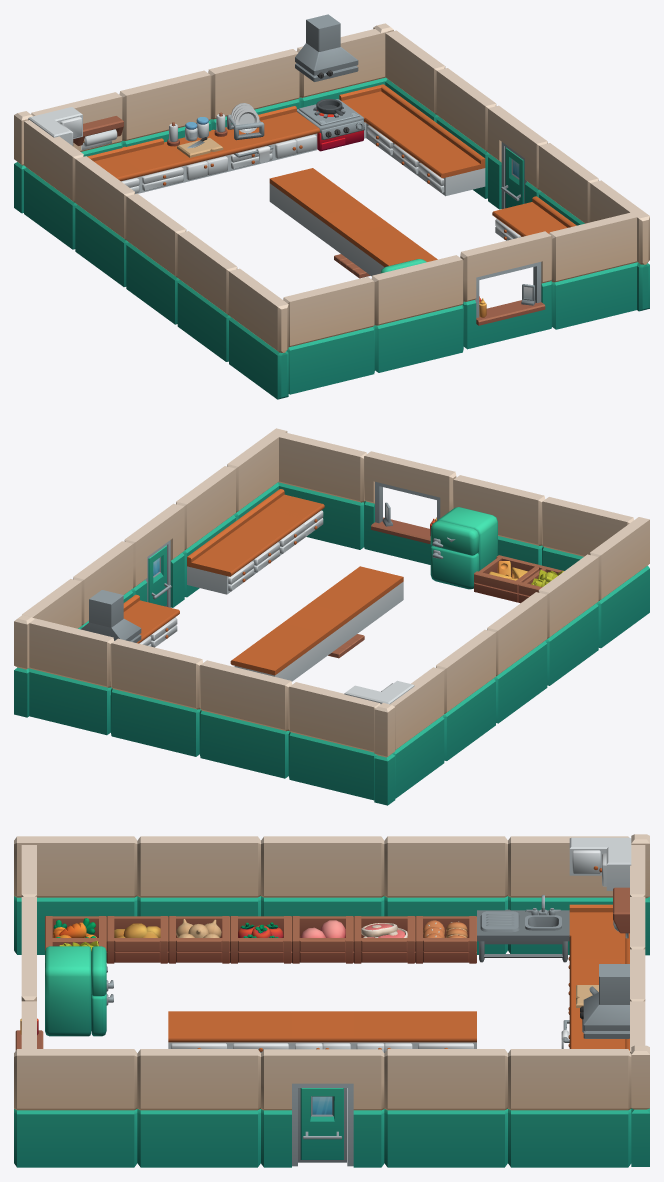
The model's file is map2_ex.glb.
3 views of the same model, one above another, from view 1: azimuth 30°, elevation 25°; view 2: azimuth 150°, elevation 25°; view 3: azimuth 270°, elevation 25° (orthographic). The views are drawn at different scales.
Visible parts, largest first — view 1: kitchencounter_straight_B.001; view 2: kitchencounter_straight_B.001; view 3: kitchencounter_straight_B.001.
Part boxes in pixels (x1,y1,x2,y2): kitchencounter_straight_B.001: (14,14,649,399); kitchencounter_straight_B.001: (14,428,649,805); kitchencounter_straight_B.001: (14,834,649,1167).
Bounding box in the file's own units: 16.97 × 5.4 × 20.6.
Materials: 57 (57 with a texture image).
